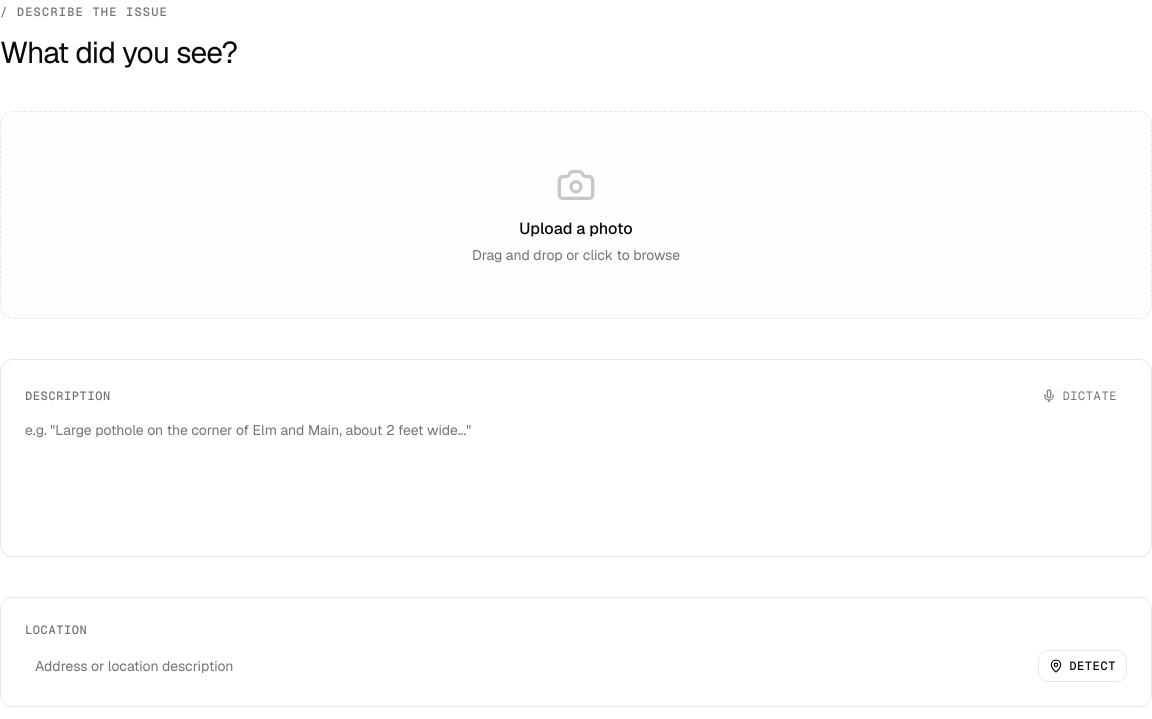
Test: DescribeStep › opens address suggestions on focus and selects one on click
Click the dropdown at {"x": 528, "y": 666}, box 25,650 -> 1030,682
(page scrolled)
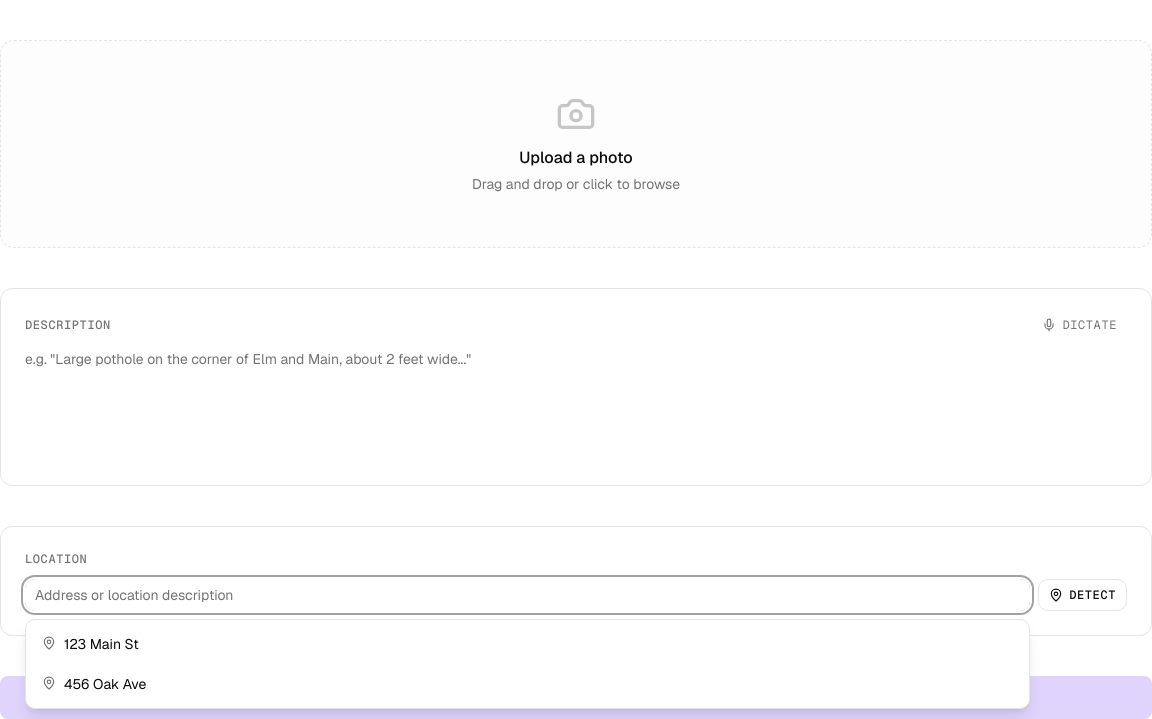
Now the list is shown, box 26,620 -> 1029,708
